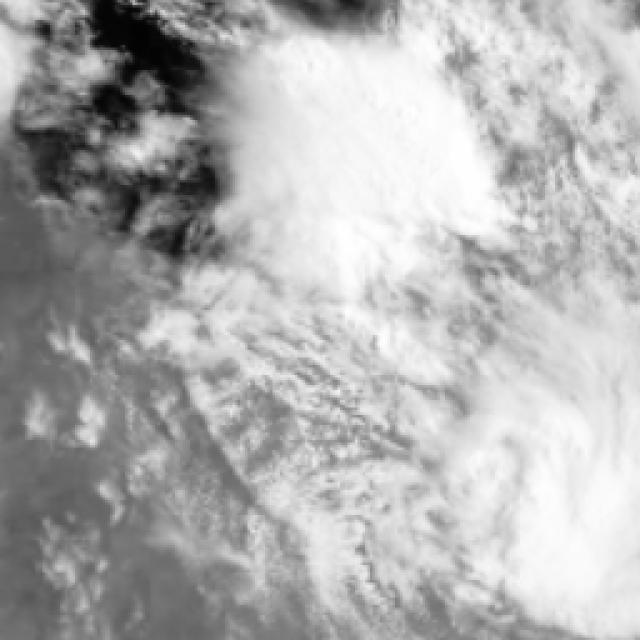CB: (260, 78, 442, 243), (529, 383, 640, 617)
